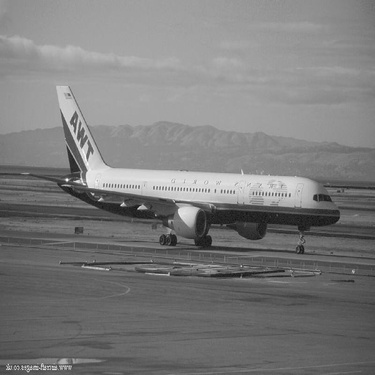airplane: (20, 76, 341, 248)
